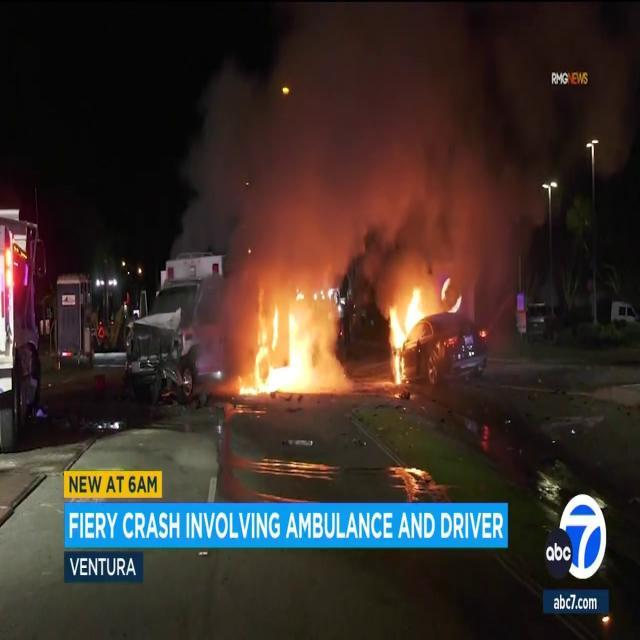Fire: (235, 286, 342, 404), (384, 283, 432, 387)
Smoke: (168, 1, 536, 280)
